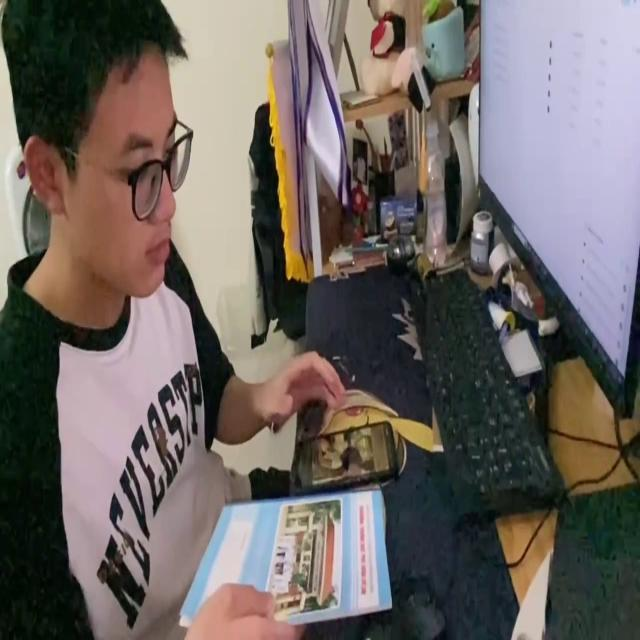book: (176, 487, 397, 637)
laptop: (476, 0, 640, 428)
phone: (292, 419, 400, 484)
student: (0, 0, 346, 640)
